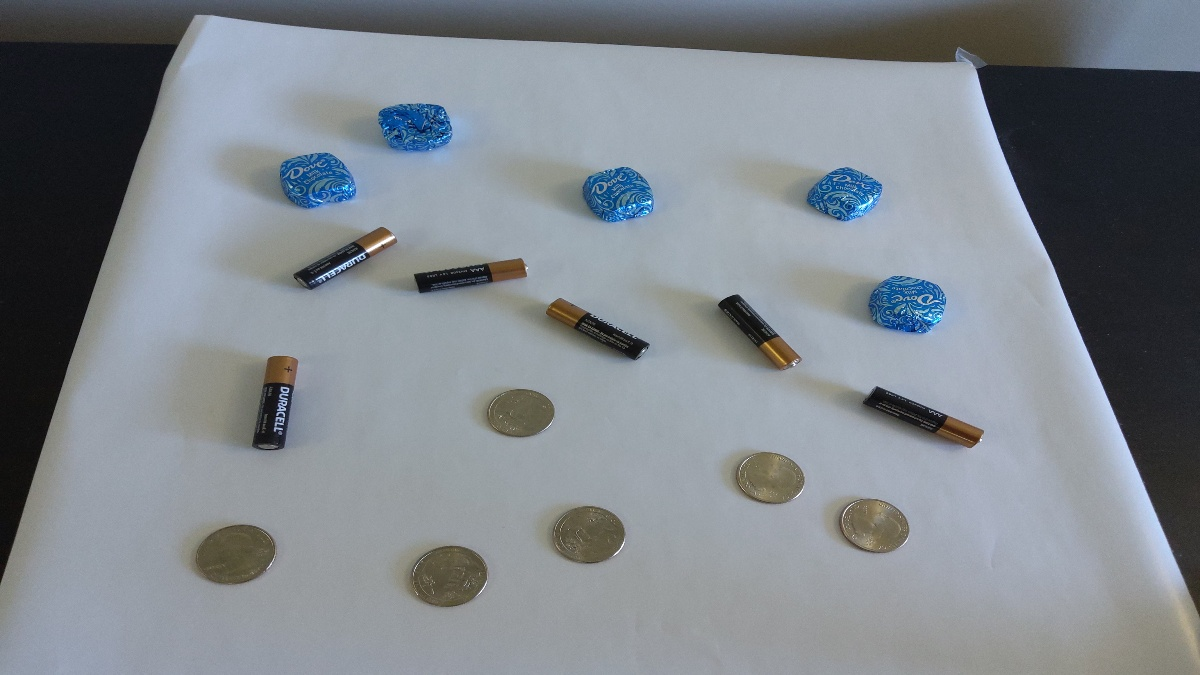battery: (856, 375, 1005, 463), (715, 285, 809, 383), (545, 285, 658, 363), (413, 243, 537, 313), (293, 225, 402, 295), (247, 344, 304, 463)
chocolate_blue: (577, 157, 667, 231), (864, 265, 948, 342), (799, 159, 888, 229), (274, 154, 362, 214), (378, 102, 456, 157)
coin_quarter: (188, 516, 287, 591), (408, 535, 492, 617), (551, 495, 635, 574), (835, 493, 920, 565), (477, 381, 565, 443), (732, 447, 809, 511)
